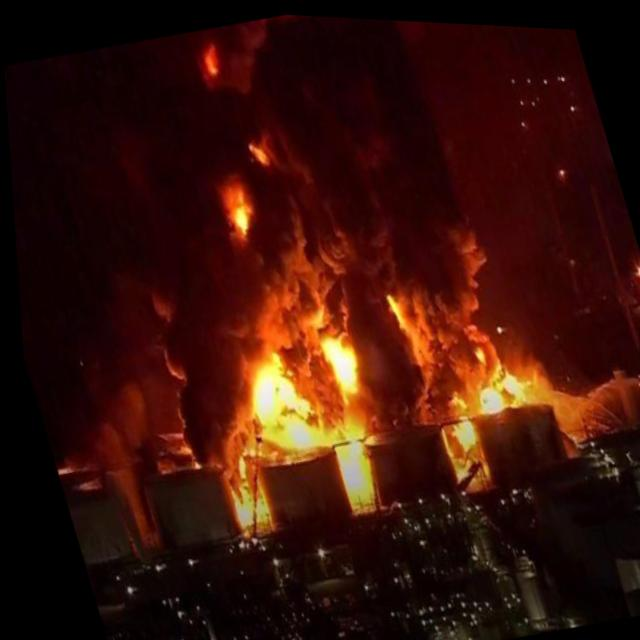fire: (230, 342, 319, 458), (308, 312, 367, 408), (212, 445, 271, 535), (320, 415, 376, 508), (461, 355, 531, 416), (209, 171, 263, 250), (430, 382, 480, 467), (376, 282, 405, 331), (198, 42, 226, 83), (245, 134, 271, 167), (464, 336, 482, 359)
